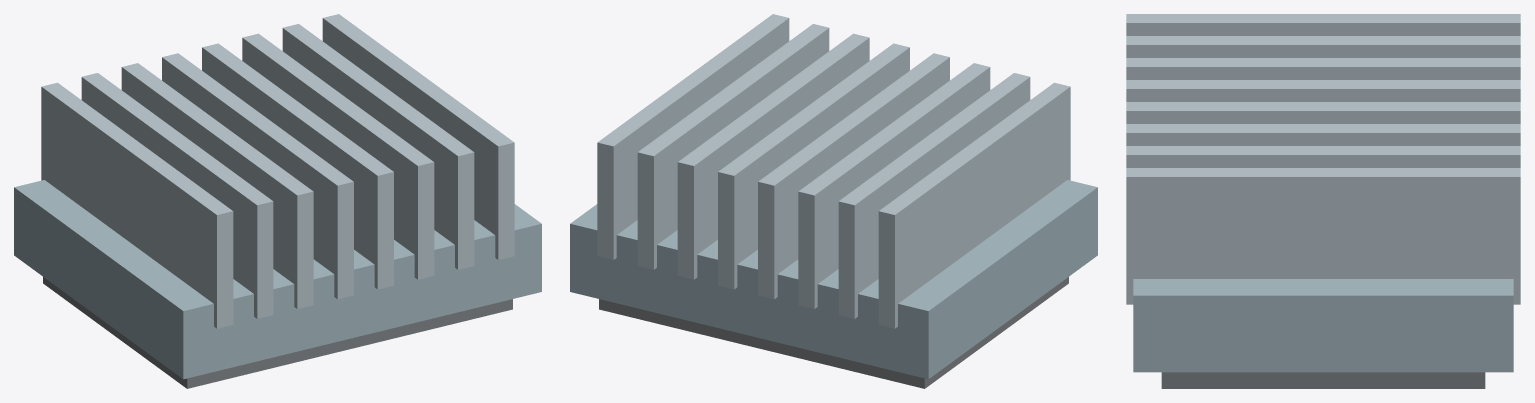
Rendered from 337_L122_HS4_HeatSink.glb.
3 views of the same model, side by side, from view 1: azimuth 30°, elevation 25°; view 2: azimuth 150°, elevation 25°; view 3: azimuth 270°, elevation 25° (orthographic). The views are drawn at different scales.
Parts seen in each view (by area): view 1: L122_heatsink__PSMAT__heatsink, L122_aluminum_dark__PSMAT__aluminum_dark, L122_graphite__PSMAT__graphite; view 2: L122_heatsink__PSMAT__heatsink, L122_aluminum_dark__PSMAT__aluminum_dark, L122_graphite__PSMAT__graphite; view 3: L122_heatsink__PSMAT__heatsink, L122_aluminum_dark__PSMAT__aluminum_dark, L122_graphite__PSMAT__graphite.
Part boxes in pixels (x1,y1,x2,y2): L122_heatsink__PSMAT__heatsink: (41, 14, 514, 328); L122_aluminum_dark__PSMAT__aluminum_dark: (14, 180, 541, 379); L122_graphite__PSMAT__graphite: (43, 277, 512, 388); L122_heatsink__PSMAT__heatsink: (597, 14, 1070, 328); L122_aluminum_dark__PSMAT__aluminum_dark: (570, 180, 1097, 379); L122_graphite__PSMAT__graphite: (599, 277, 1068, 388); L122_heatsink__PSMAT__heatsink: (1126, 14, 1520, 304); L122_aluminum_dark__PSMAT__aluminum_dark: (1133, 279, 1513, 372); L122_graphite__PSMAT__graphite: (1161, 372, 1485, 388).
Bounding box in the file's own units: 0.033 × 0.016 × 0.028.
